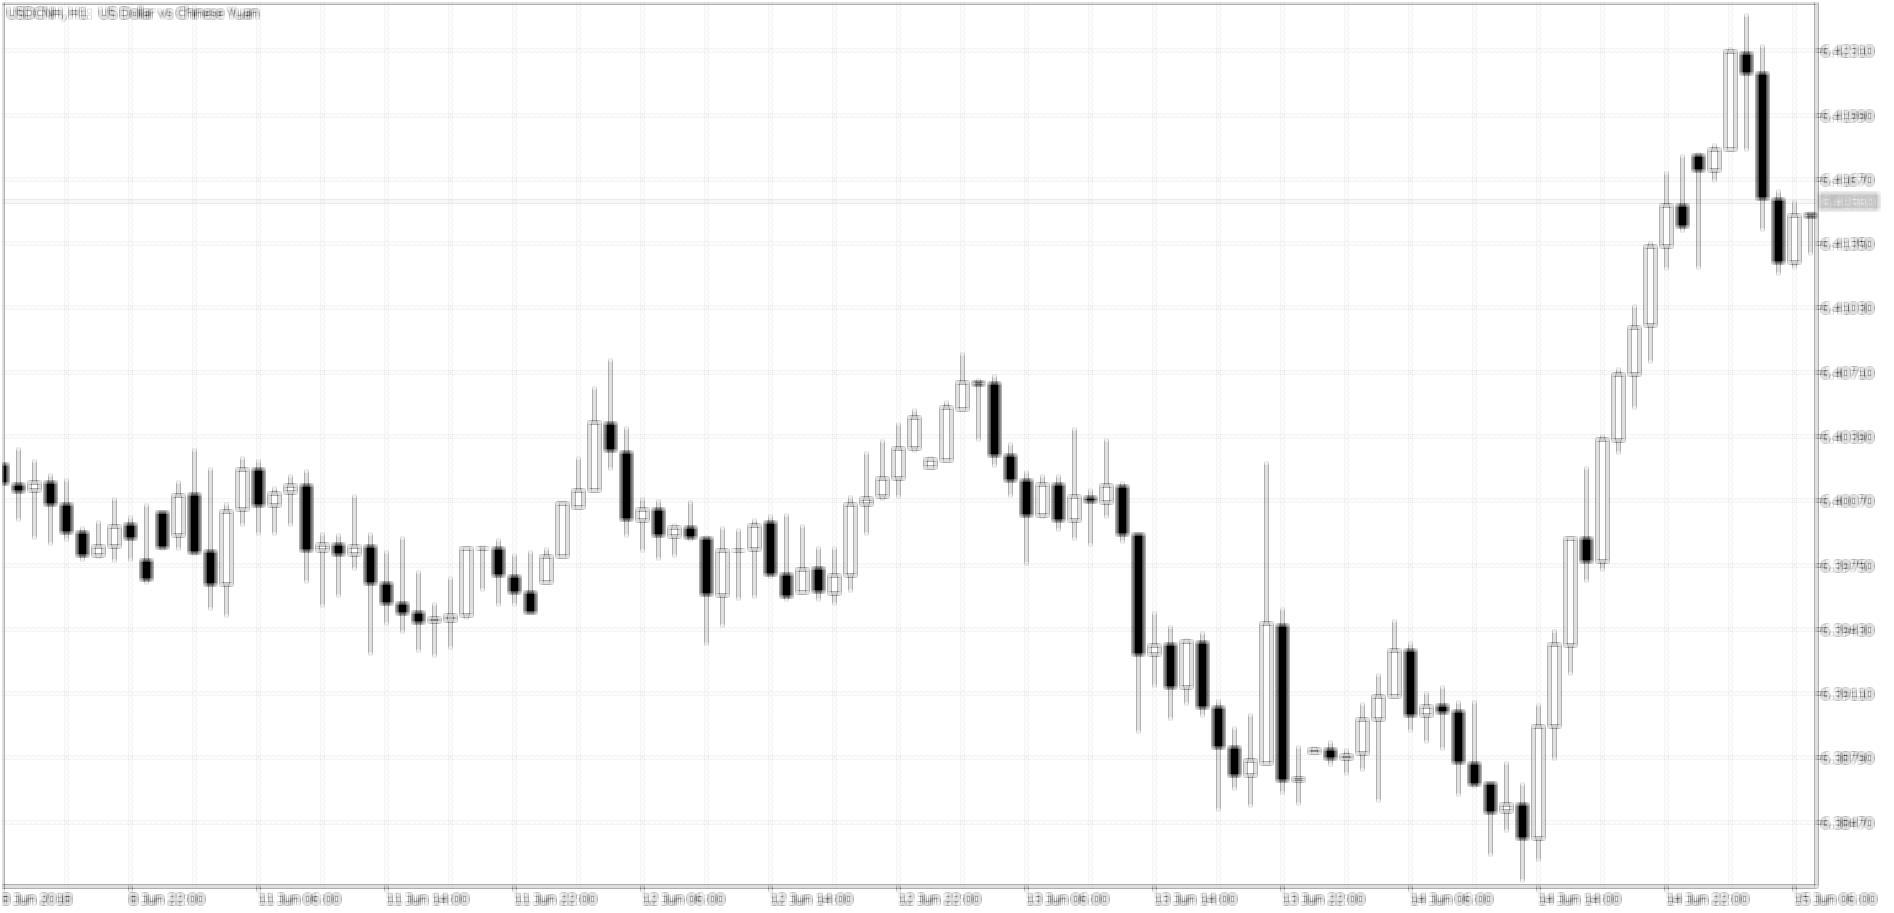3whitesoldiers: (1530, 522, 1578, 863)
eveningDojiStar: (954, 353, 1003, 469), (460, 540, 505, 630)
hangingMan: (1690, 147, 1707, 271)
